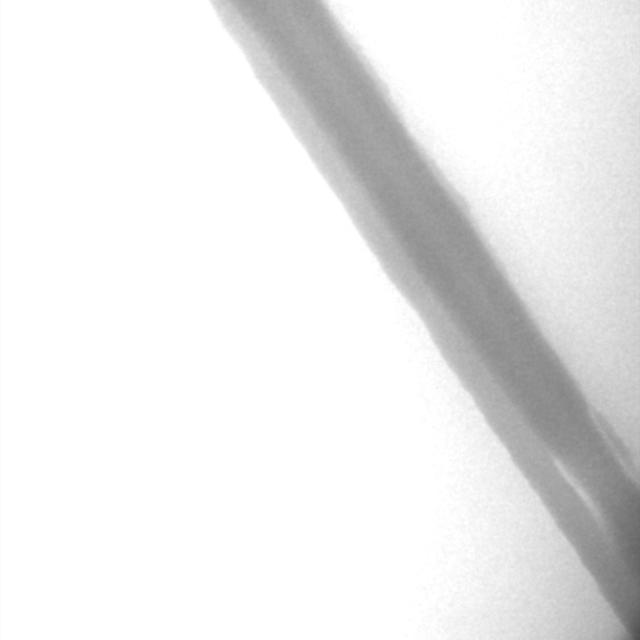unfused: (552, 407, 636, 521)
